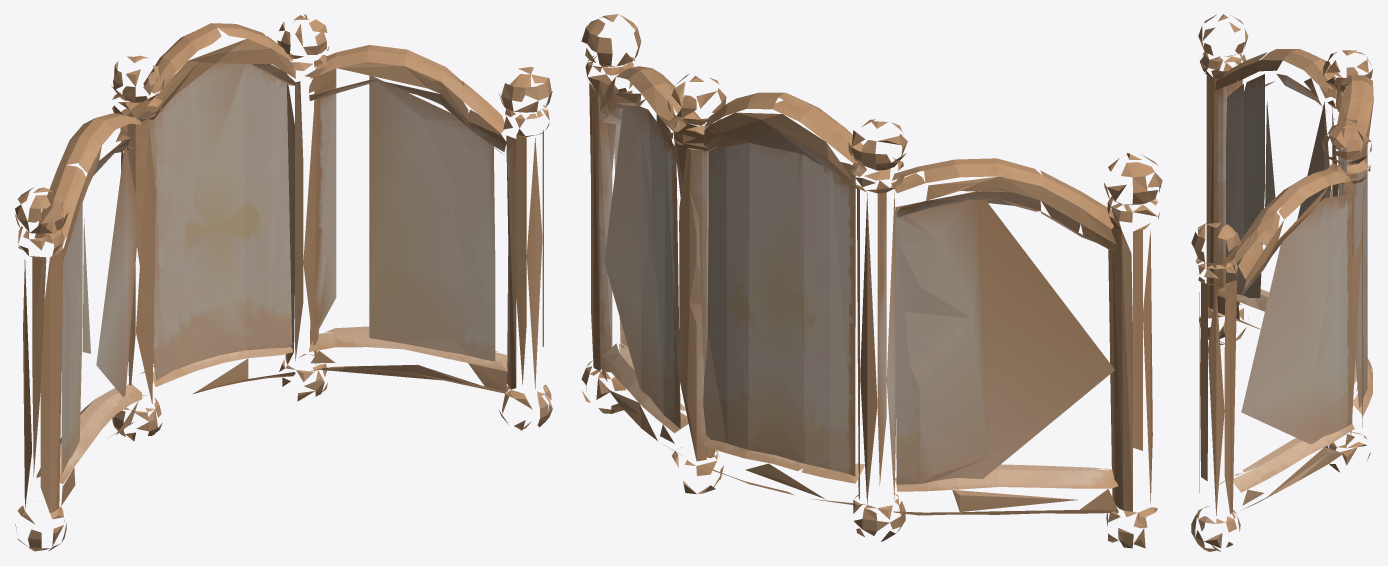
File: g_f_screen.glb
3 views of the same model, side by side, from view 1: azimuth 30°, elevation 25°; view 2: azimuth 150°, elevation 25°; view 3: azimuth 270°, elevation 25° (orthographic). The views are drawn at different scales.
Visible parts, largest first — view 1: geometry_0; view 2: geometry_0; view 3: geometry_0.
Boxes of the visible parts, box(x1,y1,x2,y2) form: geometry_0: box(14, 14, 552, 551); geometry_0: box(581, 14, 1162, 548); geometry_0: box(1191, 14, 1373, 551).
Bounding box in the file's own units: 0.1952 × 0.1445 × 0.0642.
